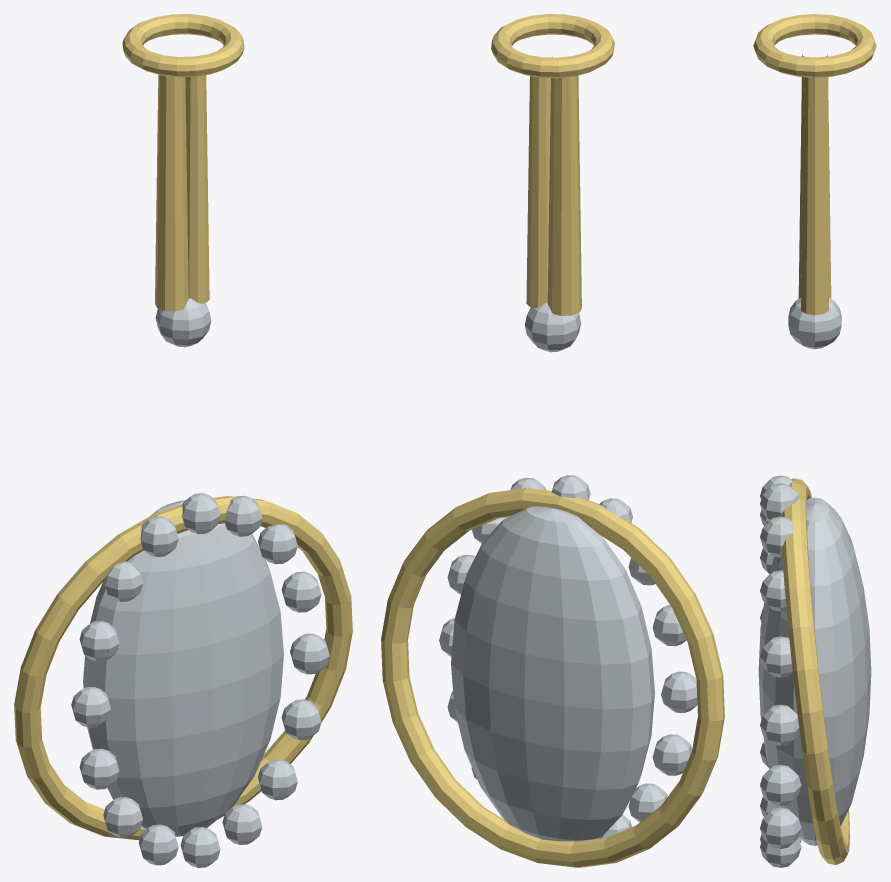
The model's file is pendant-tryon.glb.
3 views of the same model, side by side, from view 1: azimuth 30°, elevation 25°; view 2: azimuth 150°, elevation 25°; view 3: azimuth 270°, elevation 25° (orthographic).
Parts seen in each view (by area): view 1: pendant-tryon; view 2: pendant-tryon; view 3: pendant-tryon.
Part boxes in pixels (x1=…): pendant-tryon: x1=14, y1=14, x2=352, y2=867; pendant-tryon: x1=381, y1=14, x2=724, y2=867; pendant-tryon: x1=753, y1=14, x2=876, y2=867.
Bounding box in the file's own units: 15.9 × 37.01 × 5.04.
